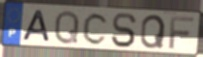A: (21, 9, 52, 44)
C: (81, 11, 110, 46)
F: (168, 16, 196, 51)
Q: (53, 9, 81, 46), (139, 13, 167, 50)
S: (110, 12, 139, 49)
